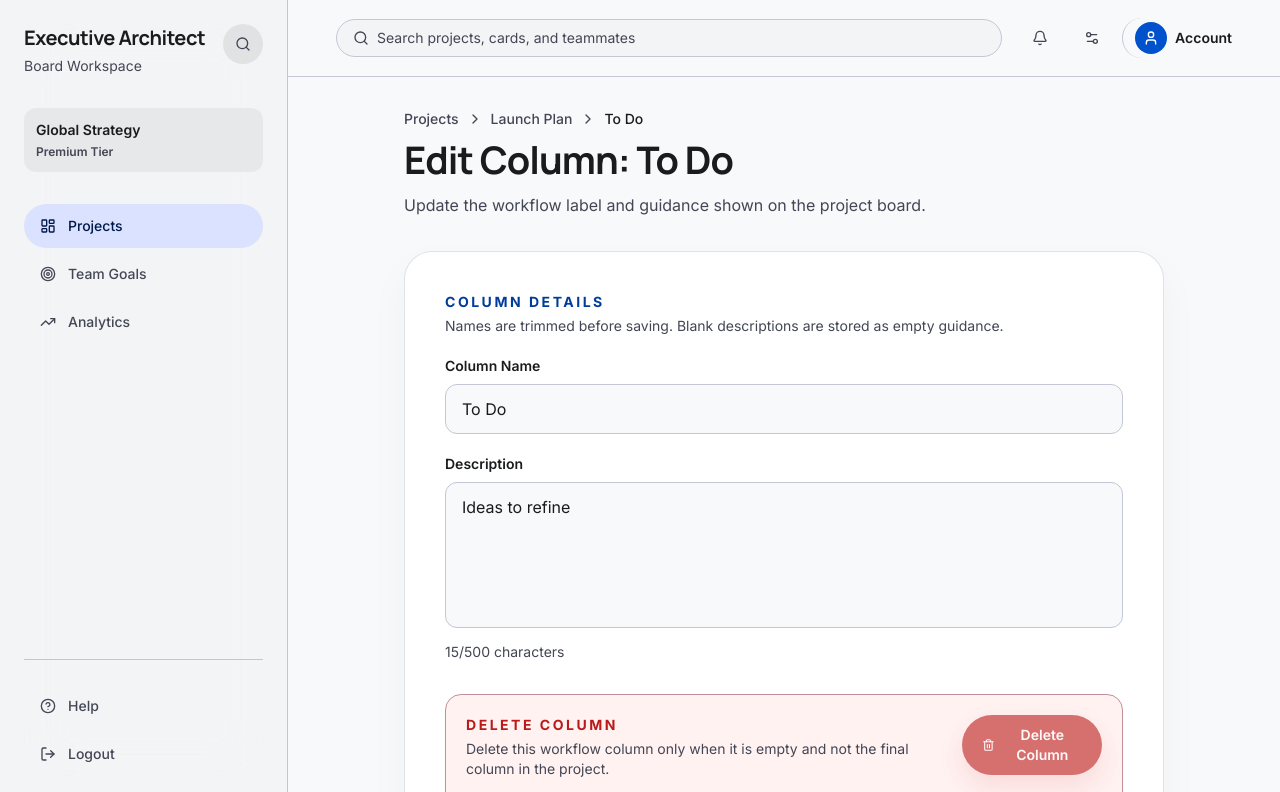
Scenario: ColumnDetailPage › rejects reserved Backlog names before saving
Replace the text in the field labelled "Column Name" with " backlog " at (784, 409), box top-left (445, 384), bottom-right (1123, 434)
(page scrolled)
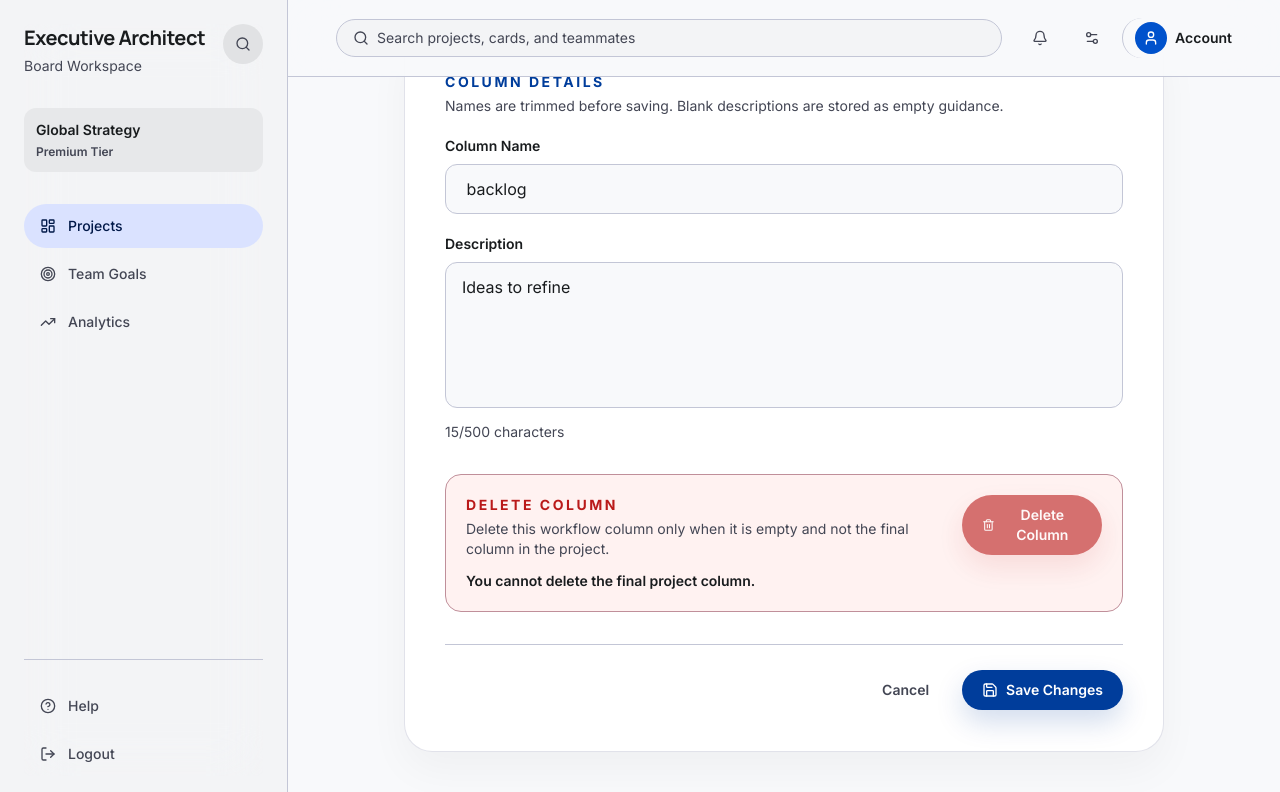
Click the button "Save Changes" at (1043, 690), box top-left (962, 670), bottom-right (1123, 710)
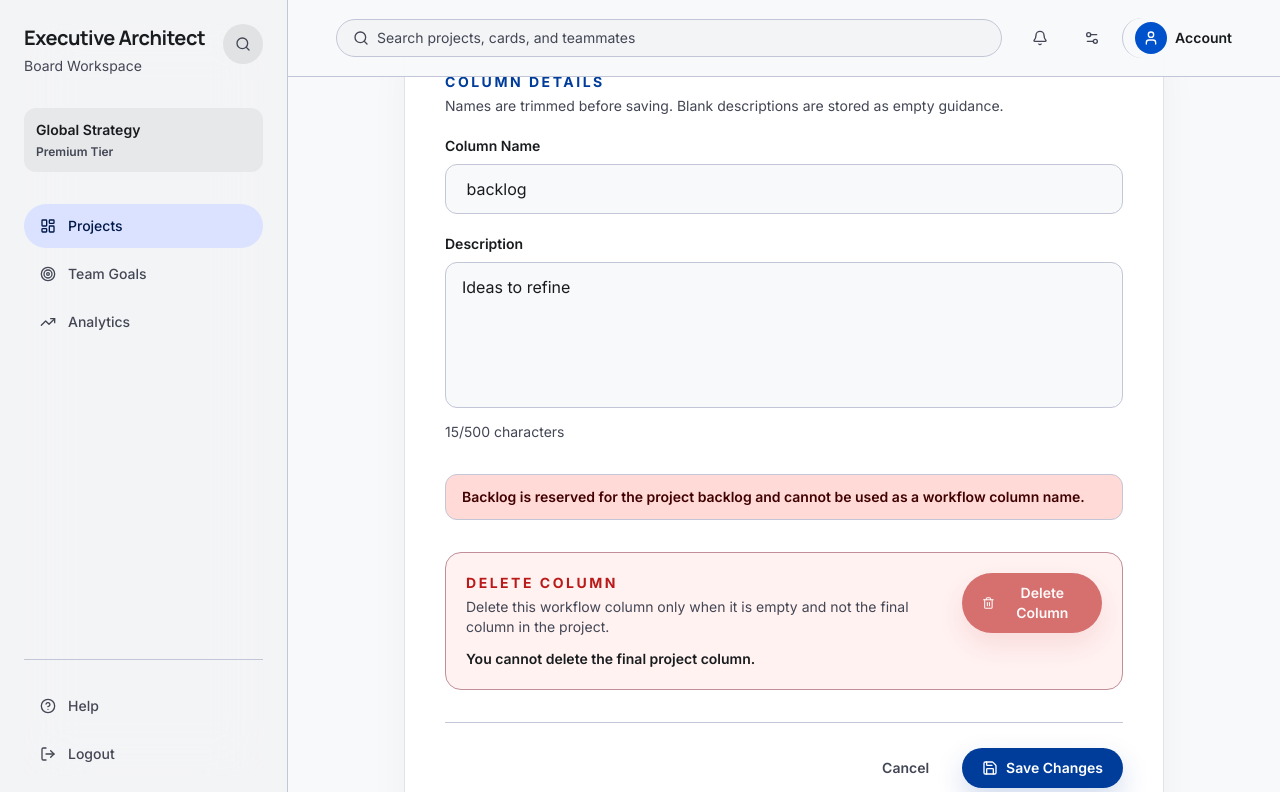
Expected: the text "Backlog is reserved for the project backlog and cannot be used as a workflow column name." is shown, top-left (462, 488), bottom-right (1085, 505)
